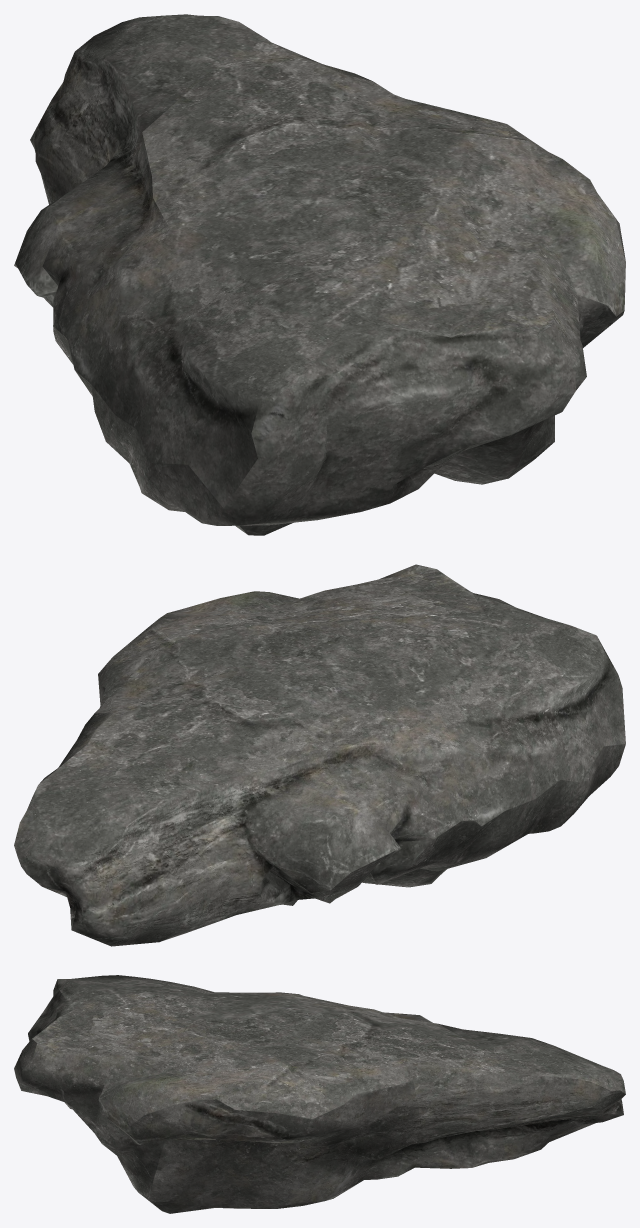
The picture shows the model from 3 angles, top to bottom: view 1: azimuth 30°, elevation 25°; view 2: azimuth 150°, elevation 25°; view 3: azimuth 270°, elevation 25°; orthographic projection. The views are drawn at different scales.
Parts seen in each view (by area): view 1: Object_2; view 2: Object_2; view 3: Object_2.
Boxes of the visible parts, <box> form: Object_2: <box>14,14,625,535</box>; Object_2: <box>14,564,625,946</box>; Object_2: <box>14,975,625,1213</box>.
Bounding box in the file's own units: 110 × 55.04 × 184.
Materials: 1 (1 with a texture image).
